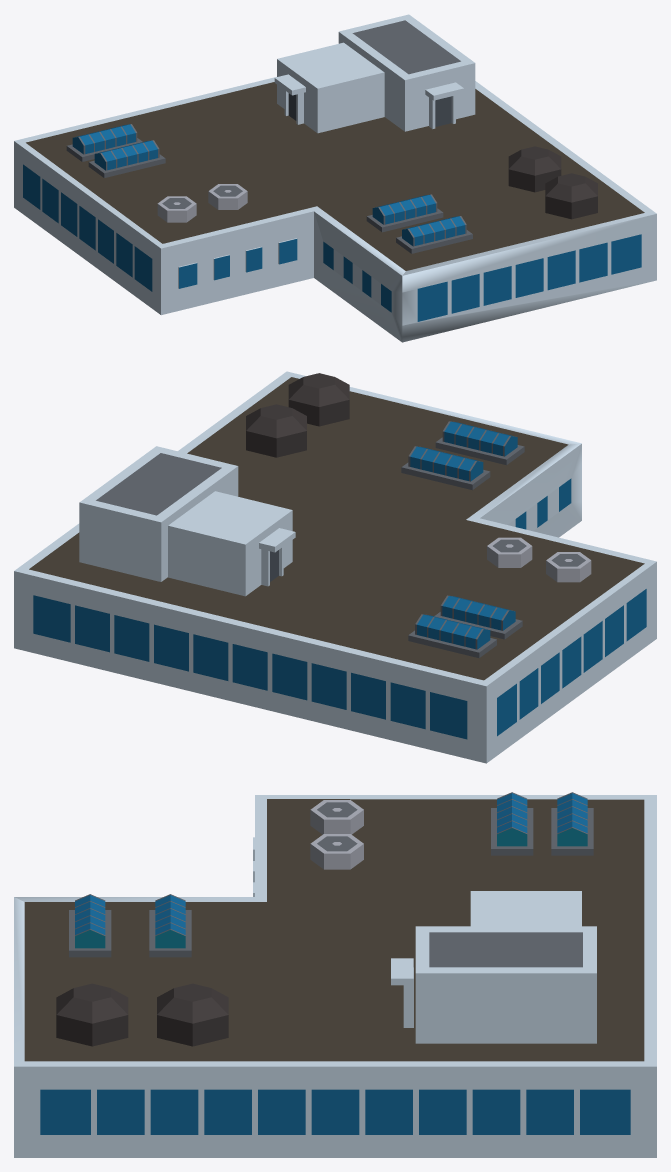
The model's file is complexSkysc.fbx.
3 renders of one model, top to bottom at view 1: azimuth 30°, elevation 25°; view 2: azimuth 150°, elevation 25°; view 3: azimuth 270°, elevation 25°, orthographic. The views are drawn at different scales.
Parts seen in each view (by area): view 1: selling, walls, top; view 2: selling, walls, top; view 3: selling, walls, top.
Boxes of the visible parts, x1=… form: selling: x1=26, y1=82, x2=644, y2=270; walls: x1=14, y1=77, x2=656, y2=342; top: x1=66, y1=14, x2=597, y2=253; selling: x1=29, y1=377, x2=644, y2=680; walls: x1=14, y1=371, x2=656, y2=763; top: x1=79, y1=373, x2=591, y2=657; selling: x1=24, y1=799, x2=644, y2=1061; walls: x1=14, y1=795, x2=656, y2=1157; top: x1=56, y1=792, x2=596, y2=1046.
Size of the model in its own units: 3200 by 887 by 3200.
